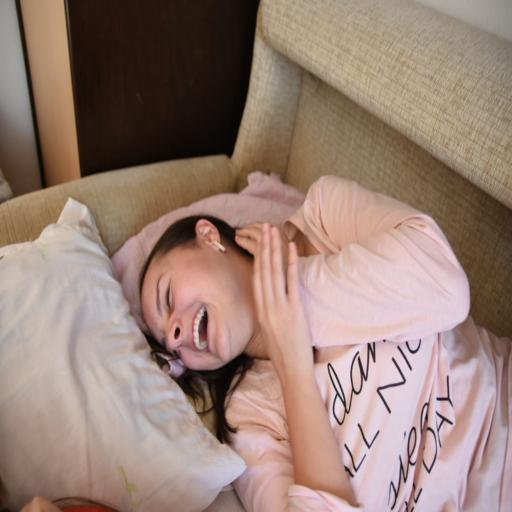marija: (141, 248, 249, 370)
